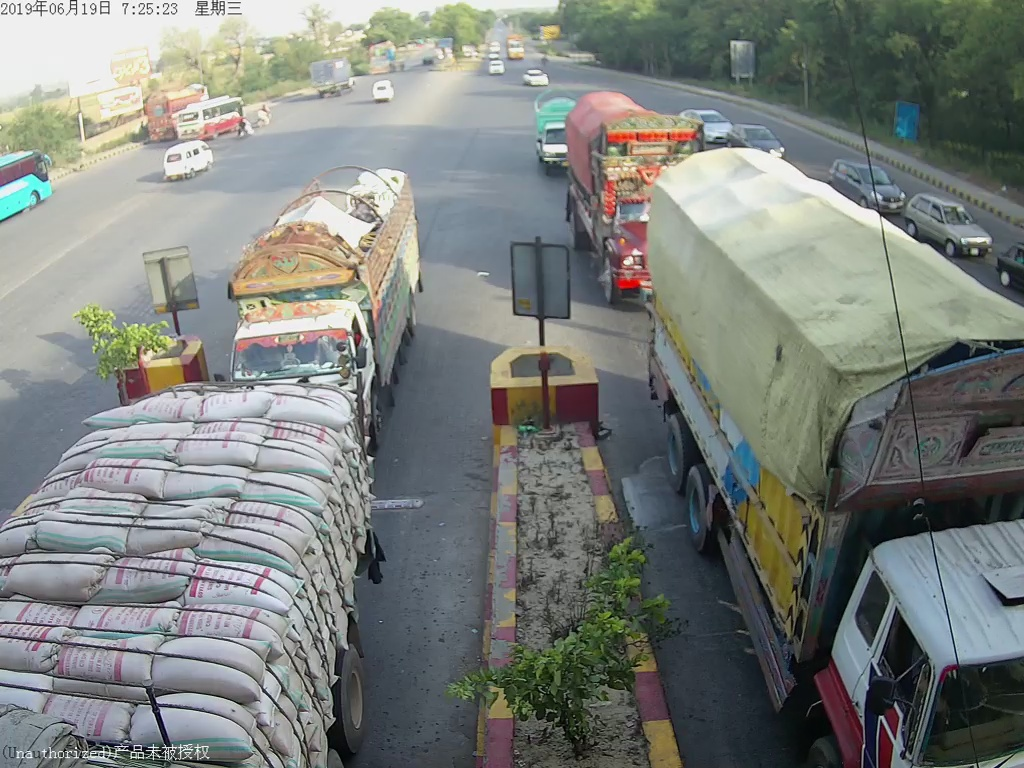Cat-4: (650, 153, 1024, 763), (224, 174, 436, 376)
